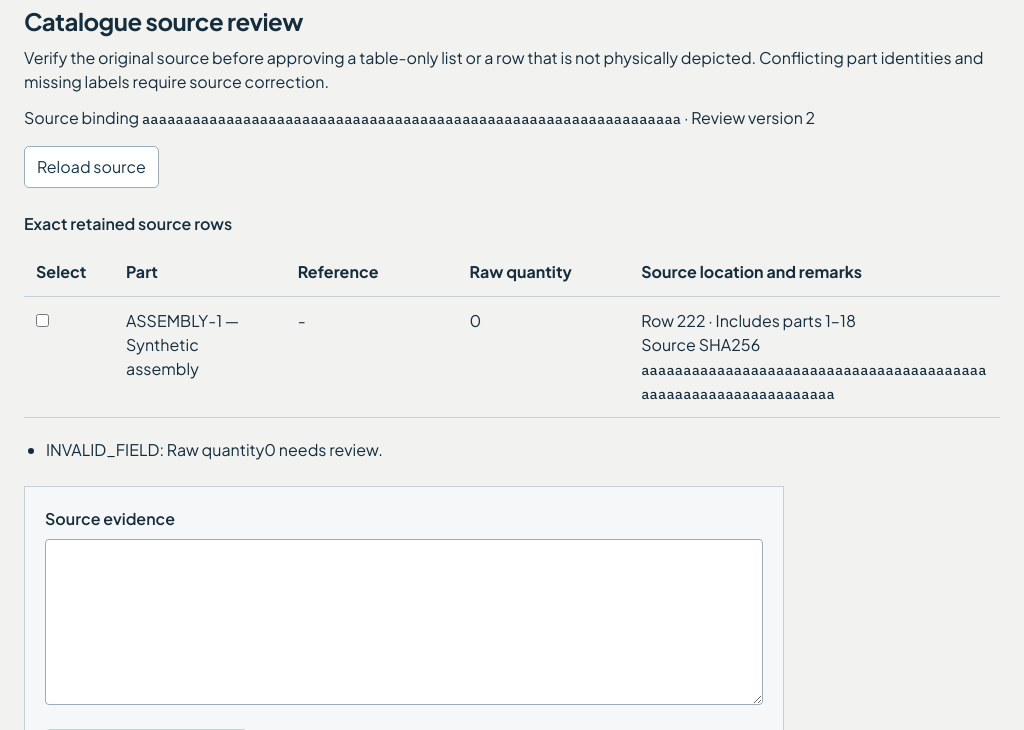
Test: source review confirmation and retries › requires explicit combined source confirmation and retries the exact uncertain decision
Click the checkbox named "Select ASSEMBLY-1": (42, 321) [36,314,49,327]
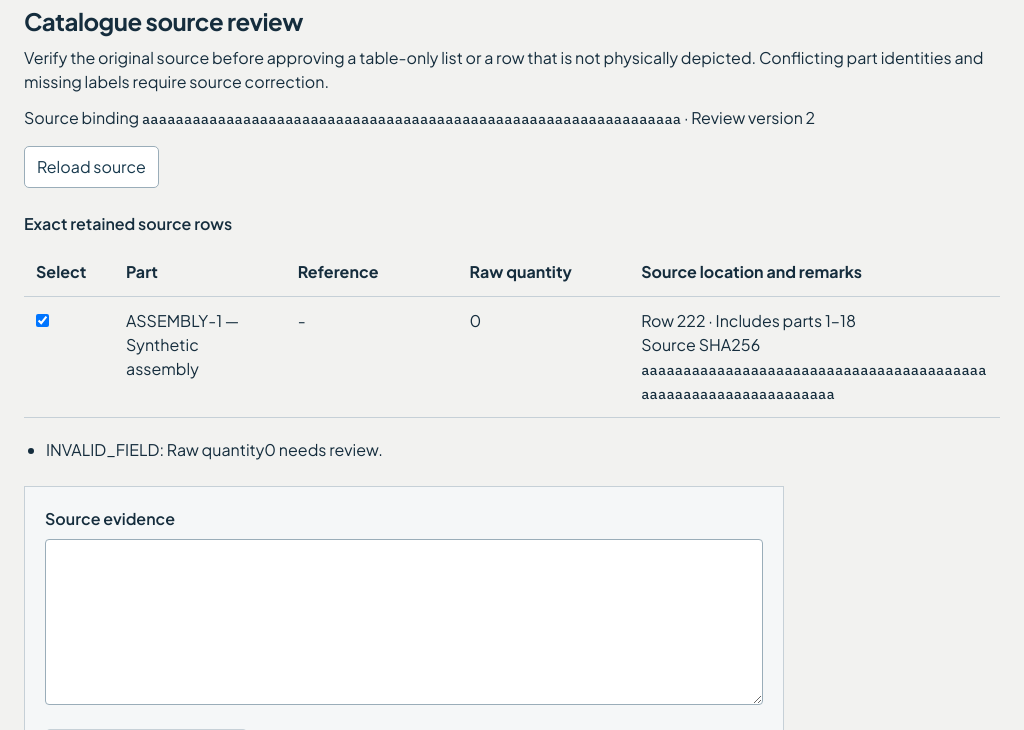
In the text box labelled "Source evidence": (404, 622) [45,539,763,705], type "Synthetic page23 confirms informational assembly, not depicted, installed quantity unspecified."
(page scrolled)
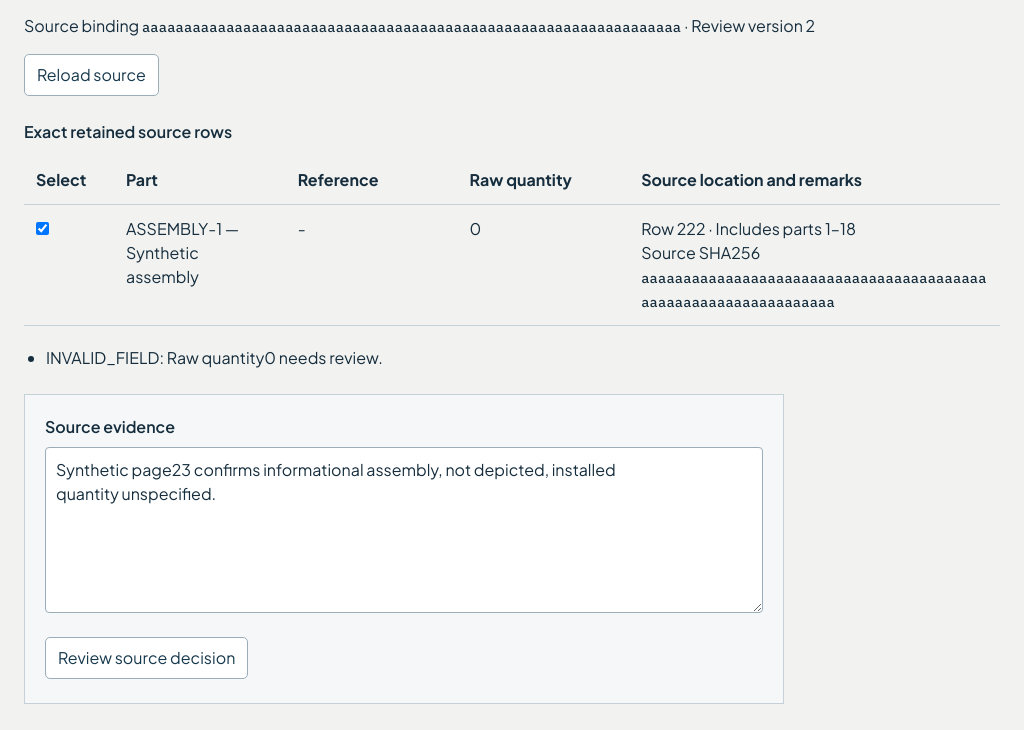
Click the button "Review source decision": (147, 658) [45,637,248,679]
(page scrolled)
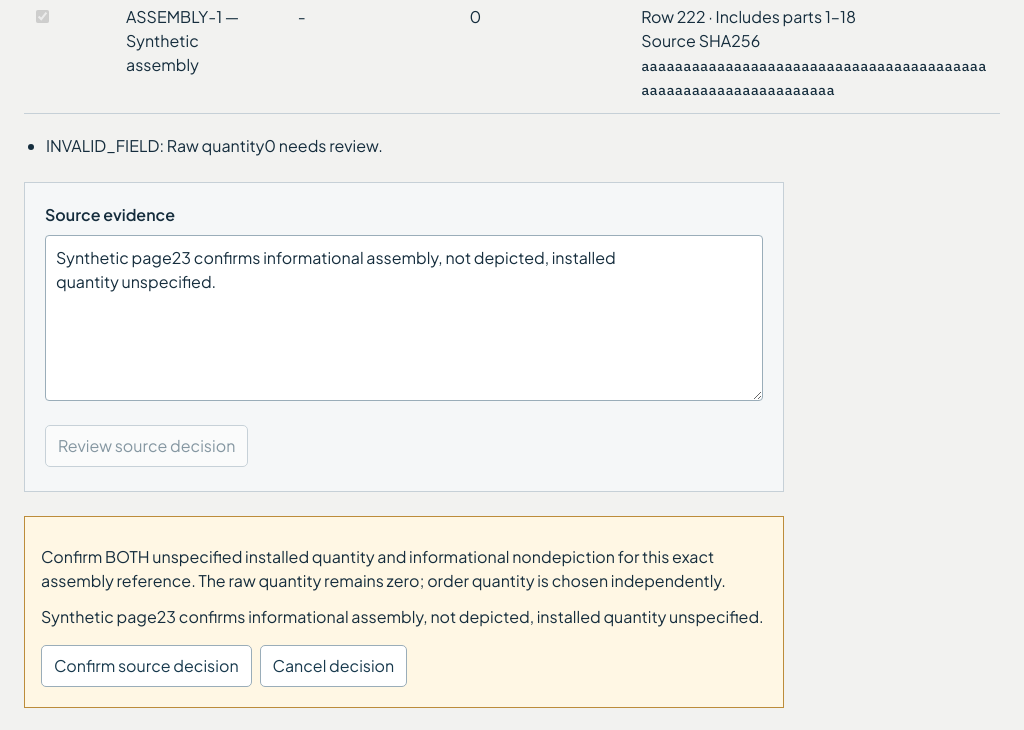
Expected: the text "unspecified installed quantity and informational nondepiction" is shown, [41,546,726,591]
Click the button "Confirm source decision": (146, 666) [41,645,252,687]
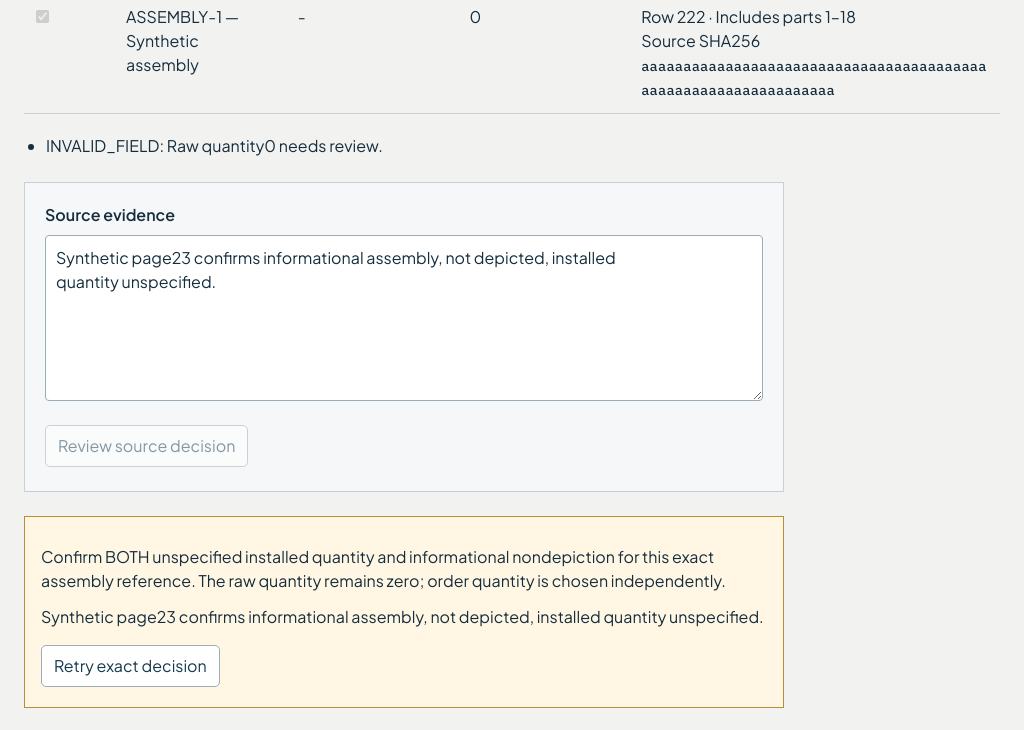
Expected: the button "Retry exact decision" is shown
Click the button "Retry exact decision": (130, 666) [41,645,220,687]
(page scrolled)
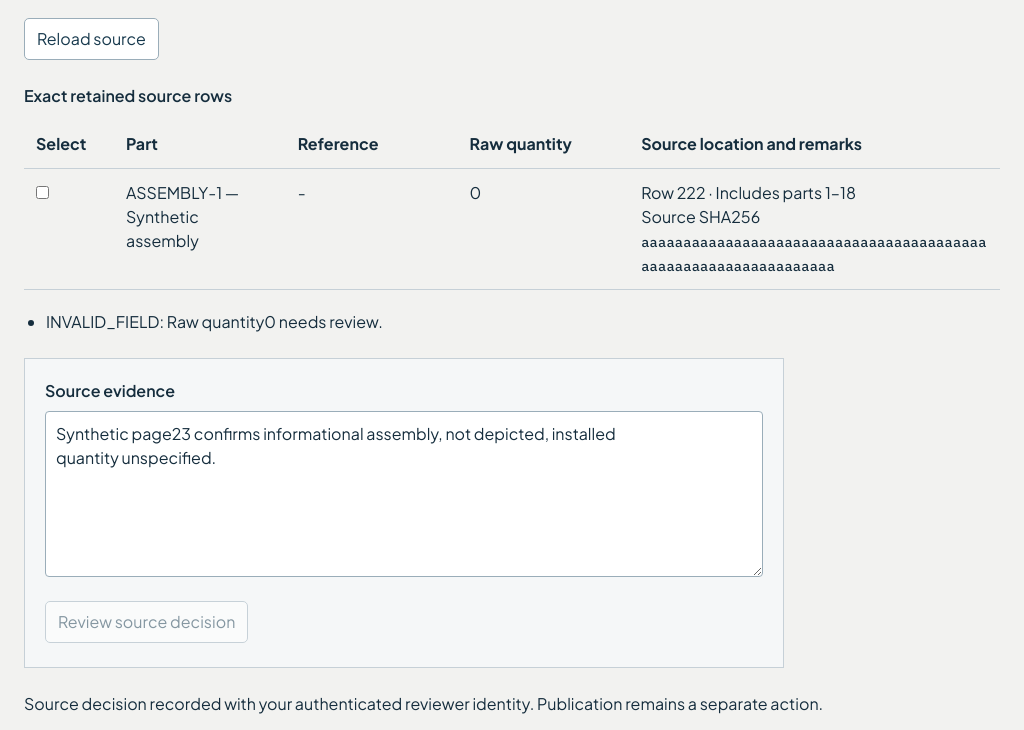
Expected: the message shows "recorded", [24,693,823,714]
